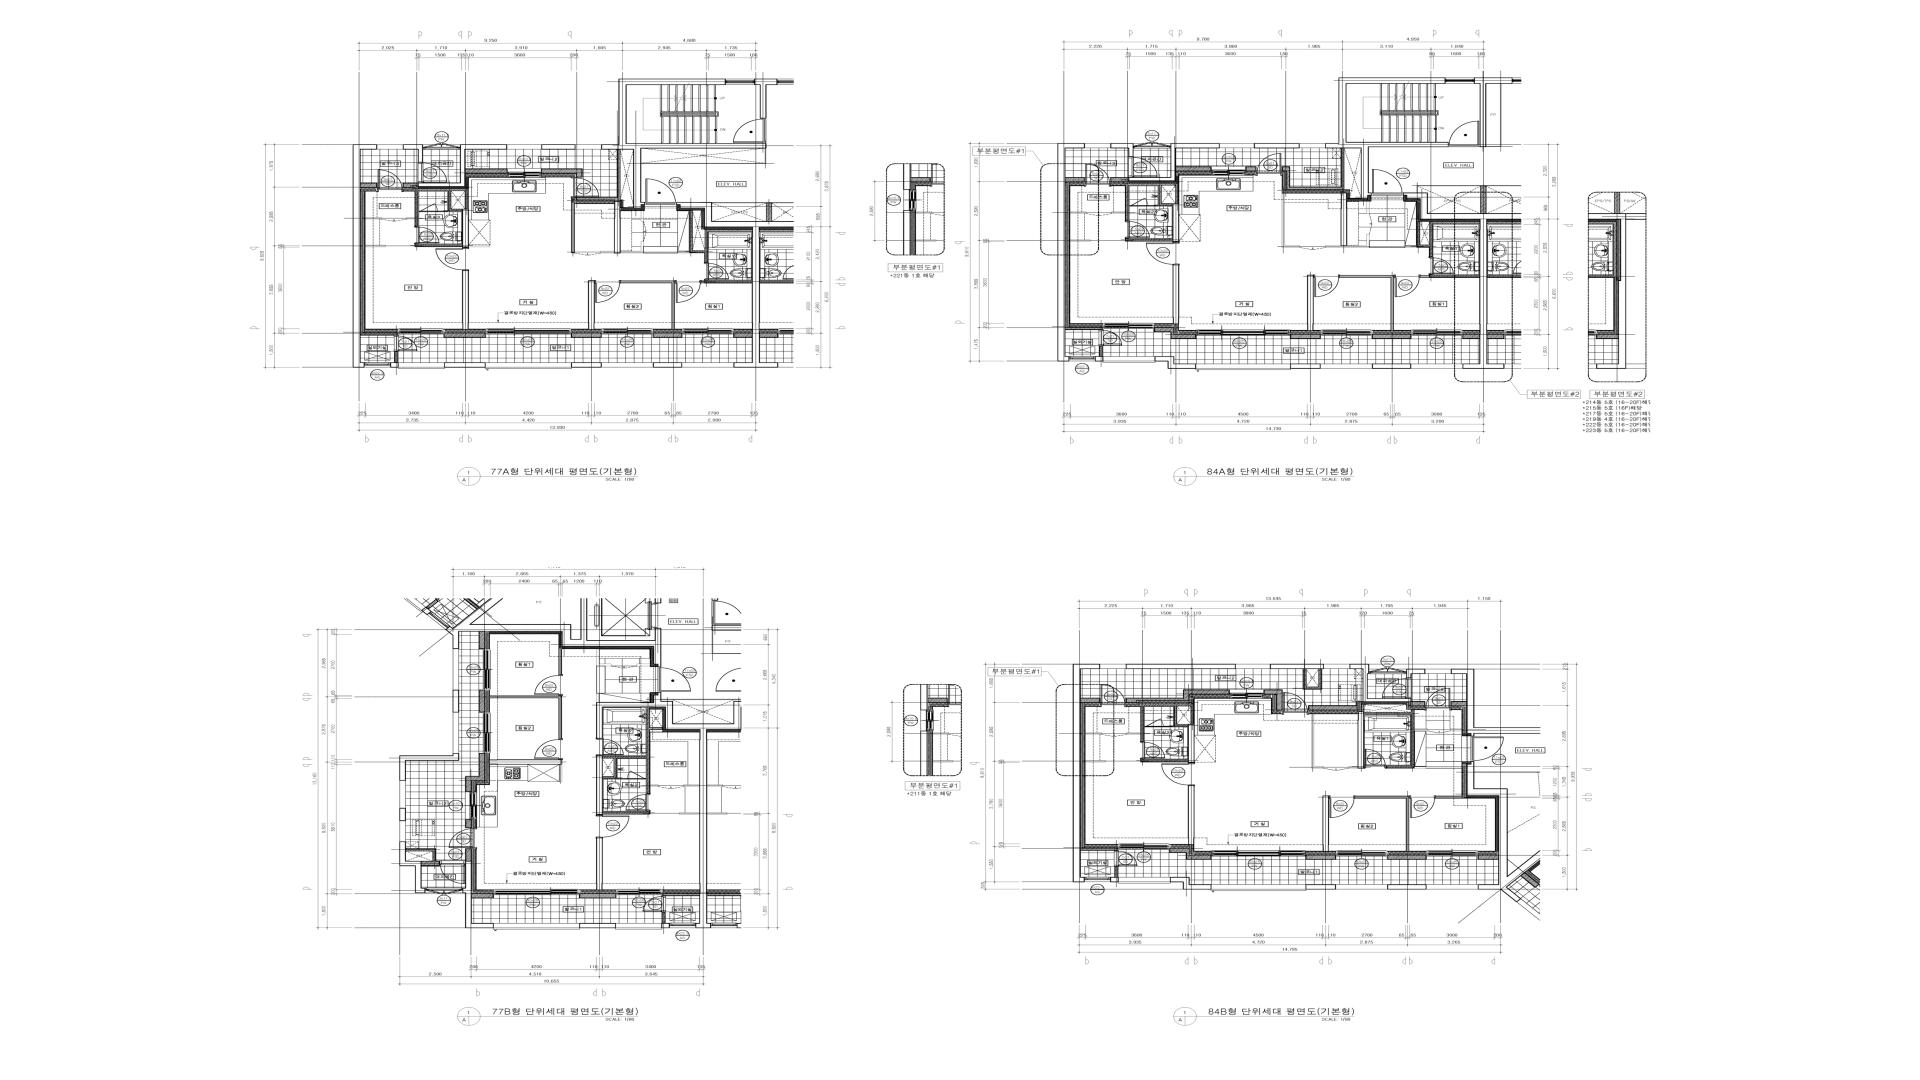door: (1371, 169, 1403, 195), (645, 178, 676, 204), (658, 667, 691, 692), (1470, 736, 1503, 761), (733, 119, 766, 144), (1146, 241, 1180, 265), (435, 247, 469, 270), (1449, 120, 1480, 146), (1162, 762, 1195, 786), (596, 815, 629, 837), (1379, 678, 1412, 698), (534, 738, 563, 760), (440, 860, 465, 884), (377, 169, 404, 191), (1394, 274, 1420, 297), (1313, 274, 1340, 297), (1410, 795, 1436, 818), (1100, 684, 1126, 707), (675, 280, 702, 302), (595, 280, 621, 302), (571, 177, 599, 198), (418, 162, 447, 182), (1129, 157, 1158, 177), (448, 828, 477, 848), (534, 675, 563, 695), (1257, 153, 1282, 175), (1085, 164, 1110, 186), (1329, 795, 1354, 818), (1425, 688, 1451, 711), (1283, 692, 1308, 715), (596, 738, 624, 756), (1125, 220, 1150, 239), (414, 225, 439, 244), (1428, 257, 1455, 274), (1141, 741, 1166, 758), (625, 794, 650, 811), (704, 262, 729, 280), (1365, 749, 1386, 769), (1098, 330, 1122, 345), (1114, 851, 1138, 866), (642, 895, 666, 911), (394, 335, 417, 351), (1369, 667, 1407, 674), (1134, 141, 1171, 148), (426, 887, 463, 894), (423, 142, 460, 149), (421, 203, 438, 212), (628, 770, 644, 779), (1131, 198, 1149, 206), (1146, 719, 1163, 727), (381, 218, 407, 222), (575, 252, 601, 256), (1087, 212, 1112, 216), (1428, 729, 1451, 733), (1101, 733, 1127, 736), (658, 786, 684, 789), (1300, 247, 1325, 249), (612, 666, 637, 669), (1324, 767, 1349, 770), (644, 222, 646, 241)
wall: (596, 692, 741, 928), (601, 78, 766, 208), (1403, 193, 1522, 369), (676, 202, 778, 368), (446, 597, 662, 667), (1325, 78, 1449, 199), (1466, 761, 1540, 902), (1058, 142, 1085, 361), (1452, 669, 1540, 736), (1073, 663, 1100, 882), (352, 144, 377, 368), (603, 707, 663, 794), (418, 144, 508, 186), (1361, 704, 1415, 769), (1129, 142, 1220, 181), (690, 210, 752, 262), (1420, 224, 1480, 278), (489, 695, 562, 738), (1354, 795, 1410, 852), (1340, 276, 1394, 331), (1282, 148, 1345, 190), (621, 281, 675, 330), (1474, 78, 1513, 146), (1325, 193, 1370, 248), (1112, 183, 1179, 220), (1350, 663, 1412, 702), (406, 189, 468, 225), (1416, 222, 1480, 257), (576, 149, 620, 200), (1141, 703, 1195, 741), (463, 861, 493, 928), (641, 148, 766, 164), (1125, 206, 1174, 241), (1141, 727, 1188, 762), (400, 753, 459, 781), (1126, 690, 1229, 703), (400, 841, 426, 893), (600, 200, 621, 253), (1486, 83, 1502, 146), (1282, 194, 1300, 248), (754, 78, 778, 119), (1349, 712, 1365, 769), (1416, 185, 1522, 193), (465, 753, 485, 791), (1312, 713, 1324, 769), (406, 848, 440, 866), (1126, 663, 1236, 669), (1155, 356, 1196, 369), (1154, 327, 1197, 339), (1170, 848, 1212, 860), (1171, 877, 1212, 889), (462, 270, 469, 330), (1303, 669, 1323, 690), (1263, 690, 1283, 711), (1188, 786, 1195, 845), (596, 756, 603, 815), (1172, 265, 1179, 324), (402, 144, 423, 162), (489, 760, 562, 765), (1307, 274, 1313, 331), (1323, 795, 1329, 852), (596, 837, 603, 890), (1110, 142, 1134, 157), (588, 280, 595, 330), (542, 169, 583, 177), (462, 208, 469, 247), (1270, 663, 1324, 669), (596, 649, 612, 666), (621, 241, 644, 253), (1308, 705, 1357, 711), (1188, 724, 1195, 762), (1172, 203, 1179, 241), (1254, 142, 1299, 148), (443, 332, 485, 338), (465, 169, 508, 174), (571, 198, 575, 253), (444, 363, 485, 368), (1371, 334, 1412, 339), (1387, 884, 1427, 889), (1387, 855, 1427, 860), (1373, 364, 1411, 369), (702, 280, 752, 284), (579, 893, 616, 898), (580, 923, 616, 928), (603, 811, 650, 815), (1176, 166, 1212, 171), (542, 144, 575, 149), (1407, 669, 1425, 678), (1290, 334, 1321, 339), (571, 332, 601, 338), (653, 332, 683, 338), (1305, 855, 1336, 860), (572, 363, 601, 368), (653, 363, 682, 368), (1291, 364, 1320, 369), (452, 690, 459, 712), (479, 690, 485, 712), (1481, 186, 1486, 214), (414, 244, 463, 247), (1305, 885, 1336, 889), (479, 632, 485, 649), (472, 893, 493, 898), (1065, 177, 1085, 182), (662, 699, 741, 700), (1478, 855, 1498, 860), (360, 332, 398, 335), (733, 332, 752, 338), (1065, 327, 1102, 330), (1110, 177, 1129, 182), (1081, 848, 1118, 851), (1081, 698, 1100, 703), (662, 893, 699, 895), (360, 182, 377, 187), (1462, 334, 1480, 339), (465, 848, 472, 861), (402, 182, 418, 187), (1451, 700, 1466, 705), (400, 808, 406, 820), (559, 647, 562, 675), (1436, 795, 1462, 798), (465, 819, 472, 828), (1411, 702, 1425, 705), (1098, 345, 1104, 356), (1085, 760, 1106, 762), (1246, 166, 1257, 171), (679, 812, 699, 815), (1071, 239, 1091, 241), (394, 351, 398, 363), (662, 911, 666, 923), (390, 363, 398, 368), (1096, 356, 1104, 361), (1114, 866, 1118, 877), (1110, 877, 1118, 882), (1085, 732, 1101, 735), (662, 923, 670, 928), (1071, 211, 1087, 214), (1127, 732, 1141, 735), (1415, 728, 1428, 731), (637, 663, 650, 666), (1451, 728, 1462, 731), (1367, 202, 1370, 214), (641, 211, 644, 222), (365, 245, 385, 247), (560, 765, 562, 782), (683, 785, 699, 786), (365, 218, 381, 219), (650, 785, 658, 786), (418, 211, 421, 212)
window: (1196, 330, 1290, 336), (493, 923, 580, 930), (493, 889, 579, 895), (1196, 364, 1291, 369), (1212, 885, 1305, 890), (1212, 851, 1305, 856), (485, 363, 572, 368), (485, 328, 571, 334), (1118, 877, 1171, 884), (1104, 356, 1155, 363), (465, 791, 477, 819), (483, 712, 491, 753), (483, 649, 491, 690), (1212, 166, 1246, 175), (1229, 690, 1263, 699), (508, 169, 542, 178), (616, 923, 662, 930), (616, 889, 662, 895), (1411, 330, 1462, 335), (1321, 330, 1373, 335), (1102, 323, 1154, 328), (1427, 851, 1478, 856), (1336, 851, 1387, 856), (1118, 844, 1170, 849), (682, 328, 733, 334), (601, 328, 653, 334), (452, 712, 459, 753), (452, 649, 459, 690), (398, 363, 444, 368), (398, 328, 443, 334), (1320, 364, 1373, 368), (1411, 364, 1462, 368), (1427, 885, 1478, 889), (1336, 885, 1387, 889), (682, 363, 733, 367), (601, 363, 653, 367), (400, 781, 406, 808), (1236, 663, 1270, 669), (508, 144, 542, 149), (1445, 78, 1474, 83), (725, 79, 754, 84), (400, 820, 406, 841), (1084, 877, 1110, 882), (1425, 669, 1452, 674), (1324, 663, 1350, 669), (1100, 663, 1126, 669), (670, 923, 696, 928), (575, 144, 601, 149), (1220, 144, 1254, 148), (377, 144, 402, 149), (1069, 356, 1095, 361), (1299, 144, 1325, 148), (364, 363, 390, 367), (1085, 144, 1110, 148)
